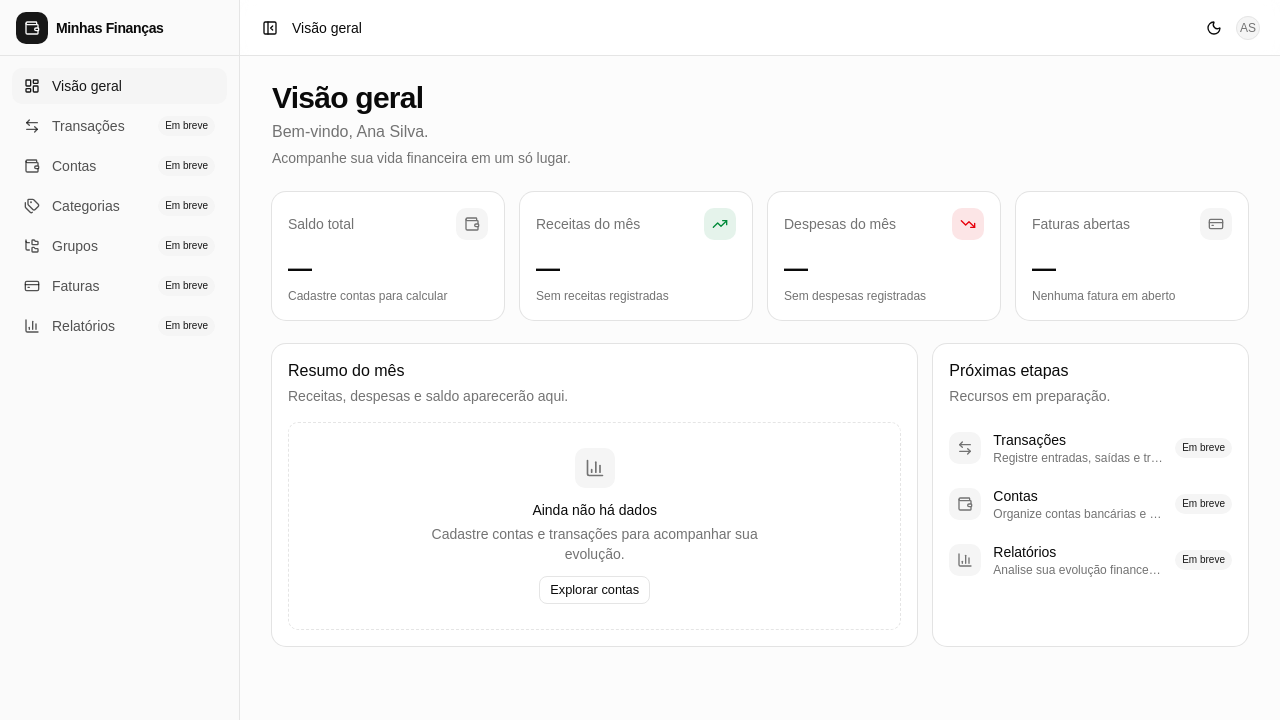
Test: App shell › toggles the color theme
Check: the heading "Visão geral" is shown, box x1=272 y1=81 x2=423 y2=114
Click the button named "Ativar tema escuro": (1214, 28) x1=1200 y1=14 x2=1228 y2=42
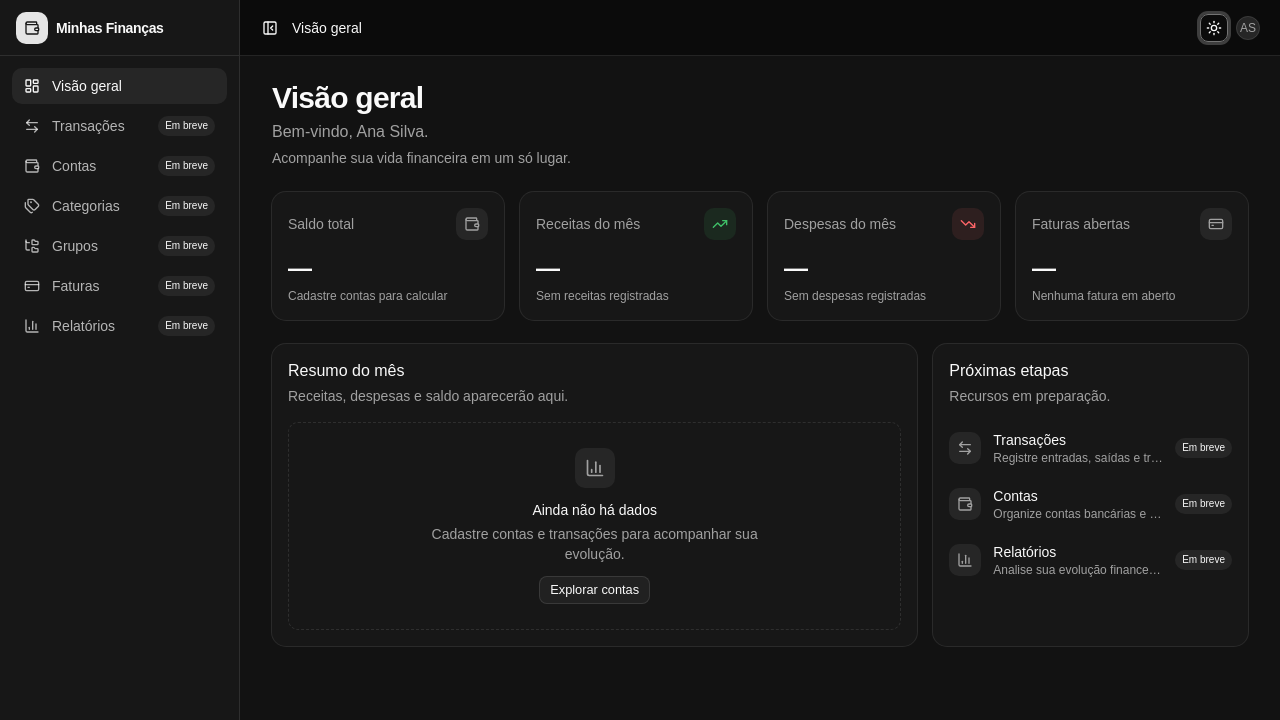
Check: the button named "Ativar tema claro" is shown, box x1=1200 y1=14 x2=1228 y2=42
